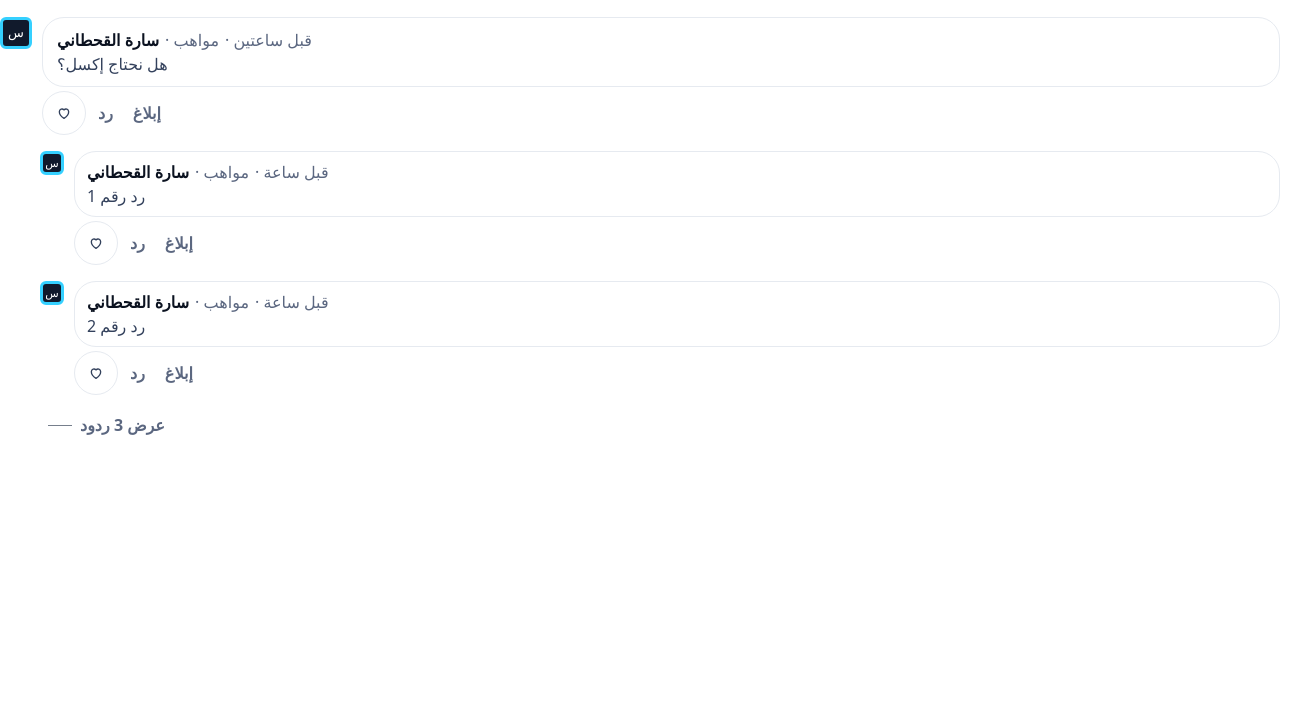
CommentList › ★ DEC-290: a thread of more than two replies shows two and «عرض N ردود» for the rest
Expected: the text "رد رقم 2" is shown, [87, 315, 145, 337]
Expected: the text "رد رقم 3" is not shown
What coordinates should you click on to do the following:
click the button "عرض 3 ردود"
I would click on:
 (106, 425)
Its box is [40, 403, 173, 447].
(page scrolled)
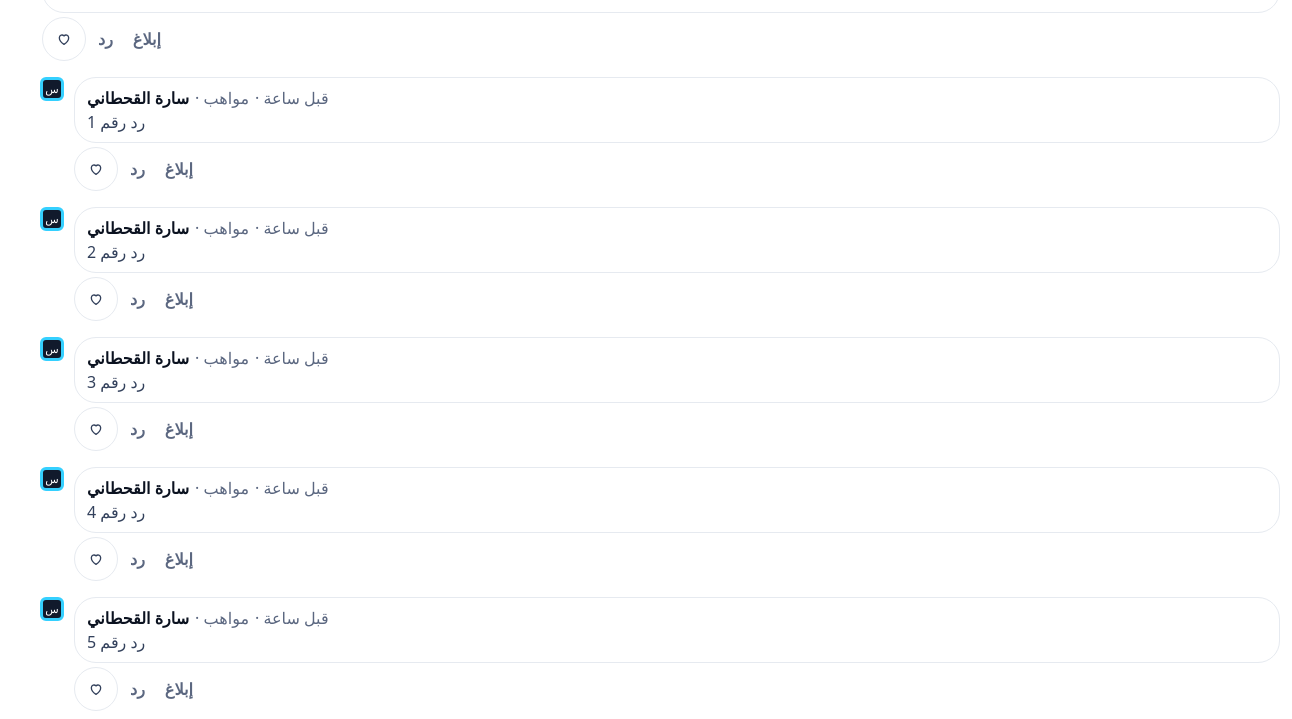
Result: the text "رد رقم 5" is shown at [87, 631, 145, 653]
Result: the button "عرض" is gone
